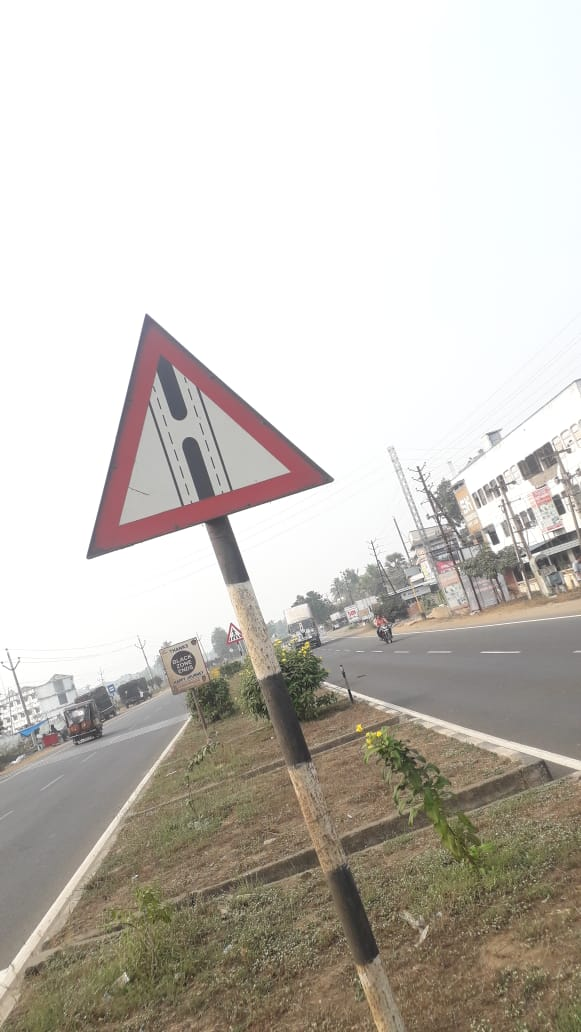highway go straight: (51, 292, 378, 573)
